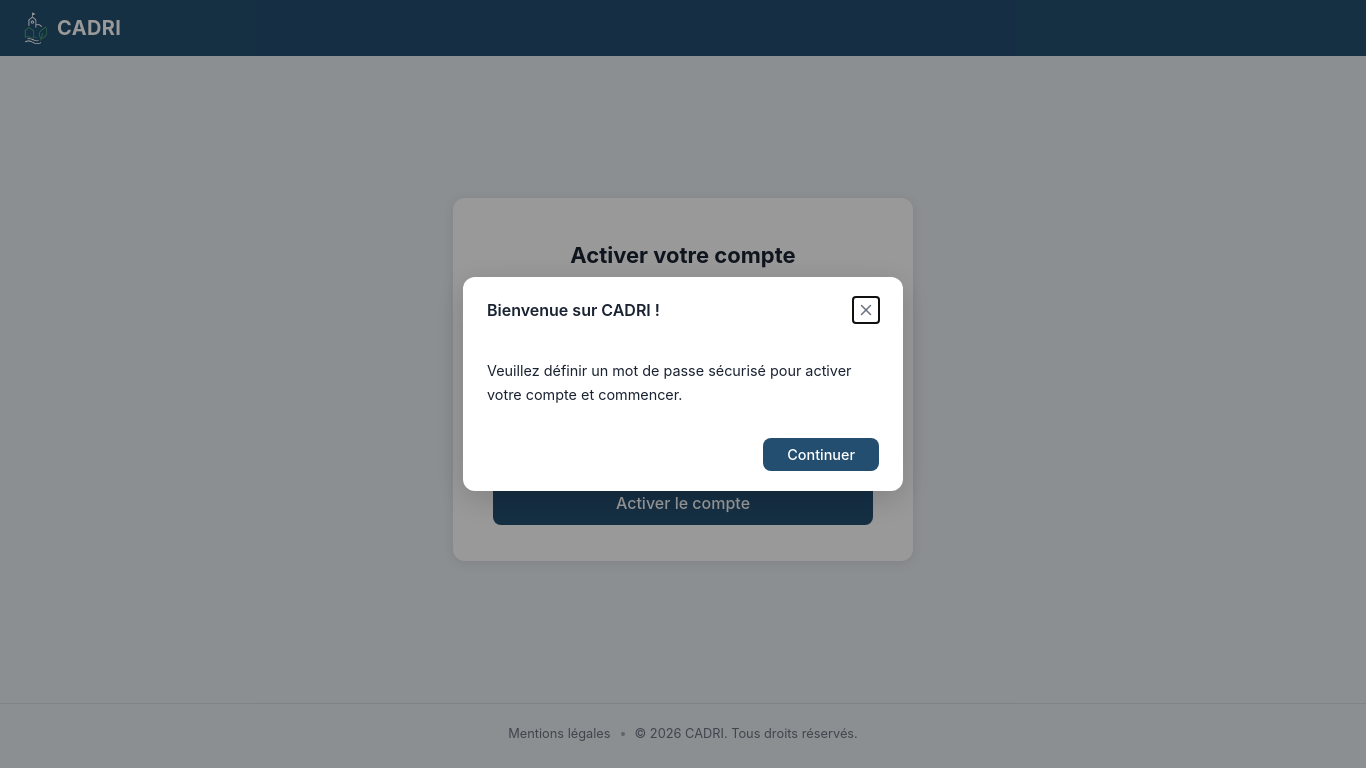
Test: ActivateAccountPage › cliquer sur "Continuer" ferme la pop-up de bienvenue
The image size is (1366, 768).
Click the button "Continuer": (821, 454) [763,438,879,470]
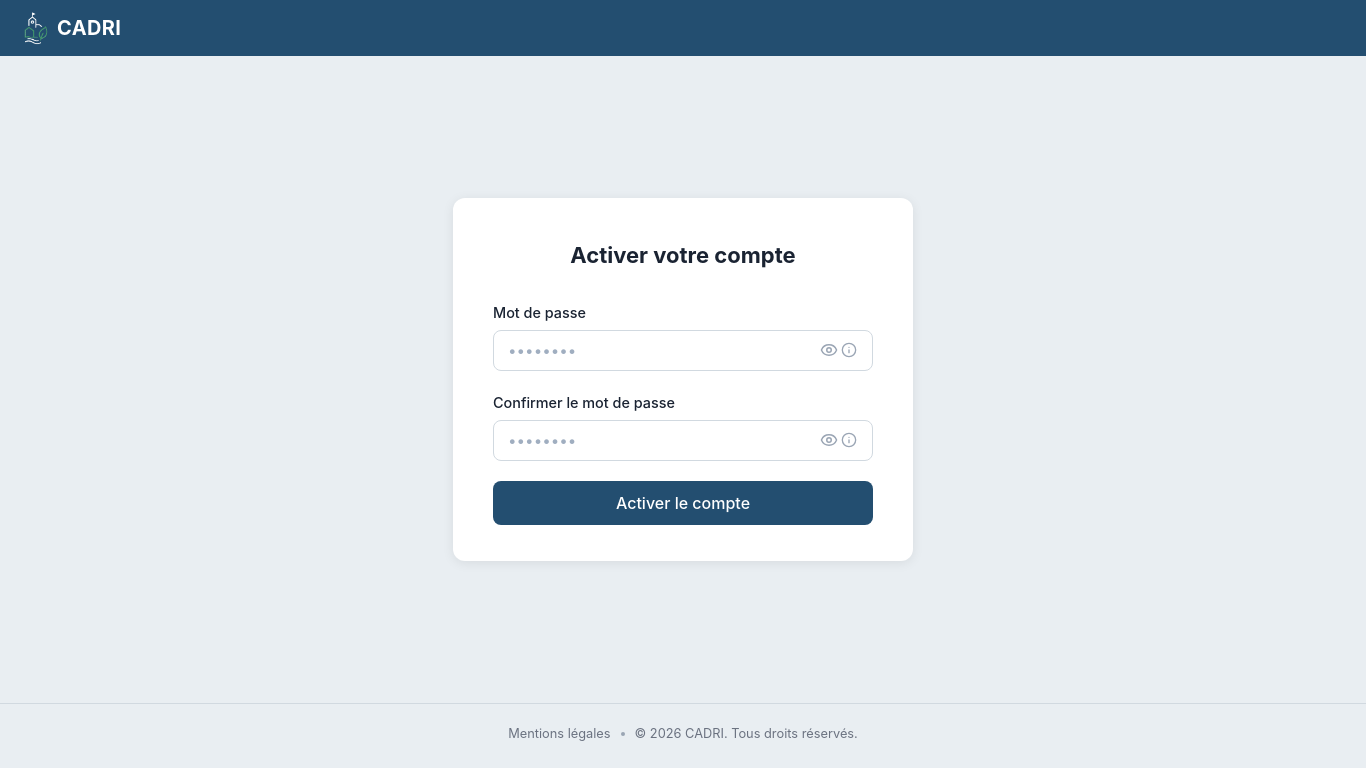
expect the dialog is gone: met
